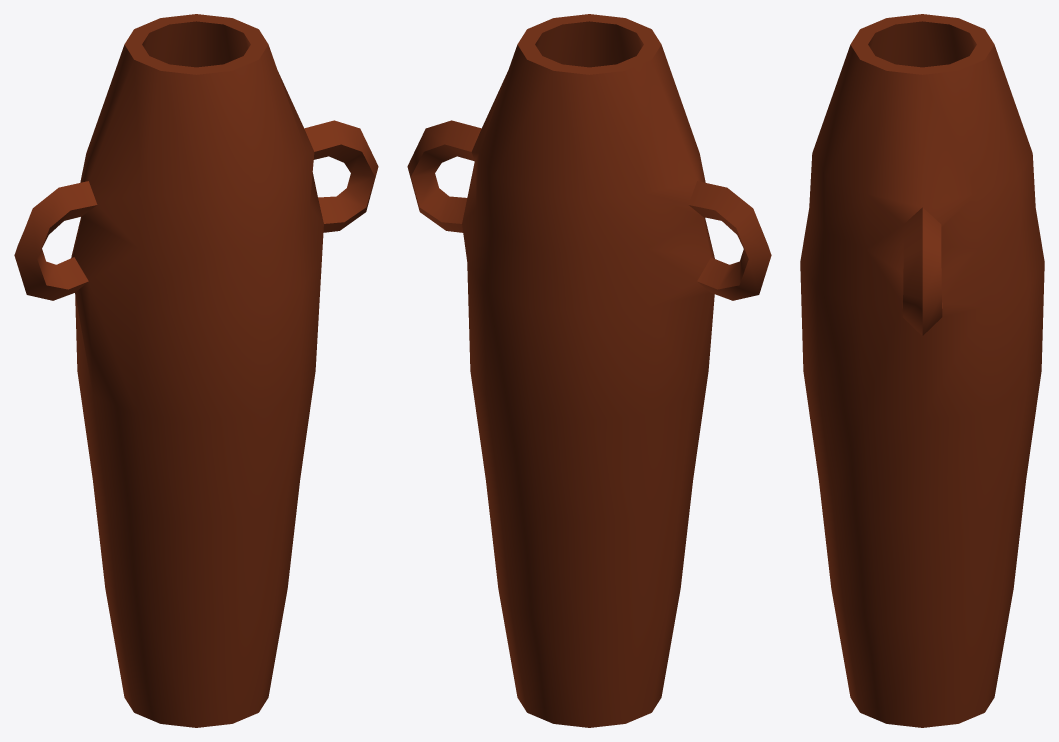
The model's file is Amphora.FBX.
3 renders of one model, left to right at view 1: azimuth 30°, elevation 25°; view 2: azimuth 150°, elevation 25°; view 3: azimuth 270°, elevation 25°, orthographic.
Parts seen in each view (by area): view 1: amphora; view 2: amphora; view 3: amphora.
Part boxes in pixels (box(x1,y1,x2,y2)): amphora: box(14, 14, 378, 727); amphora: box(407, 14, 771, 727); amphora: box(800, 14, 1044, 727).
Size of the model in its own units: 48.43 by 82.99 by 28.16.
